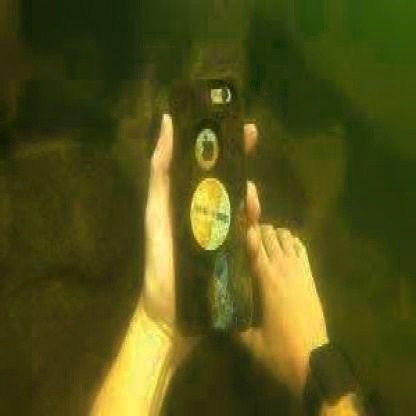cellphone: (173, 70, 255, 334)
